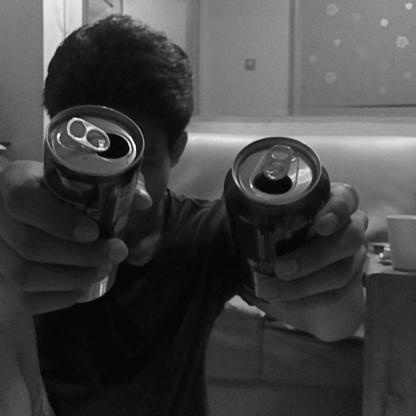alumunium_can: (43, 105, 147, 304), (221, 134, 328, 309)
